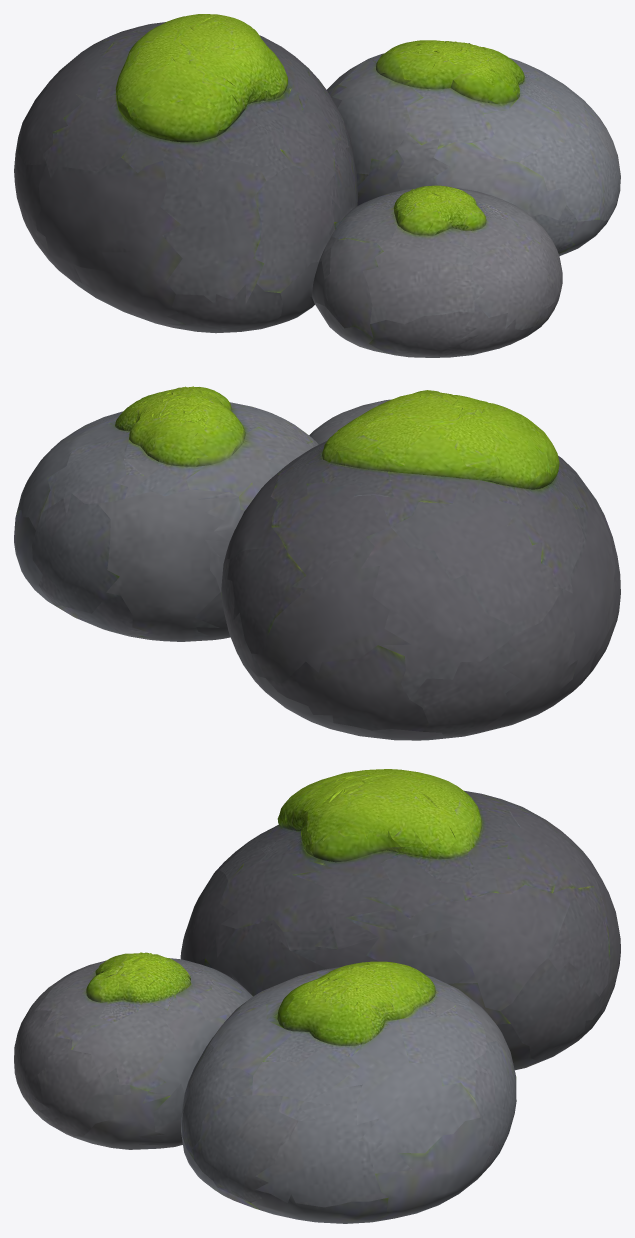
File: oe-sten.glb
3 renders of one model, top to bottom at view 1: azimuth 30°, elevation 25°; view 2: azimuth 150°, elevation 25°; view 3: azimuth 270°, elevation 25°, orthographic. The views are drawn at different scales.
Bounding box in the file's own units: 1.9 × 0.8527 × 1.76.
Materials: 1 (1 with a texture image).
